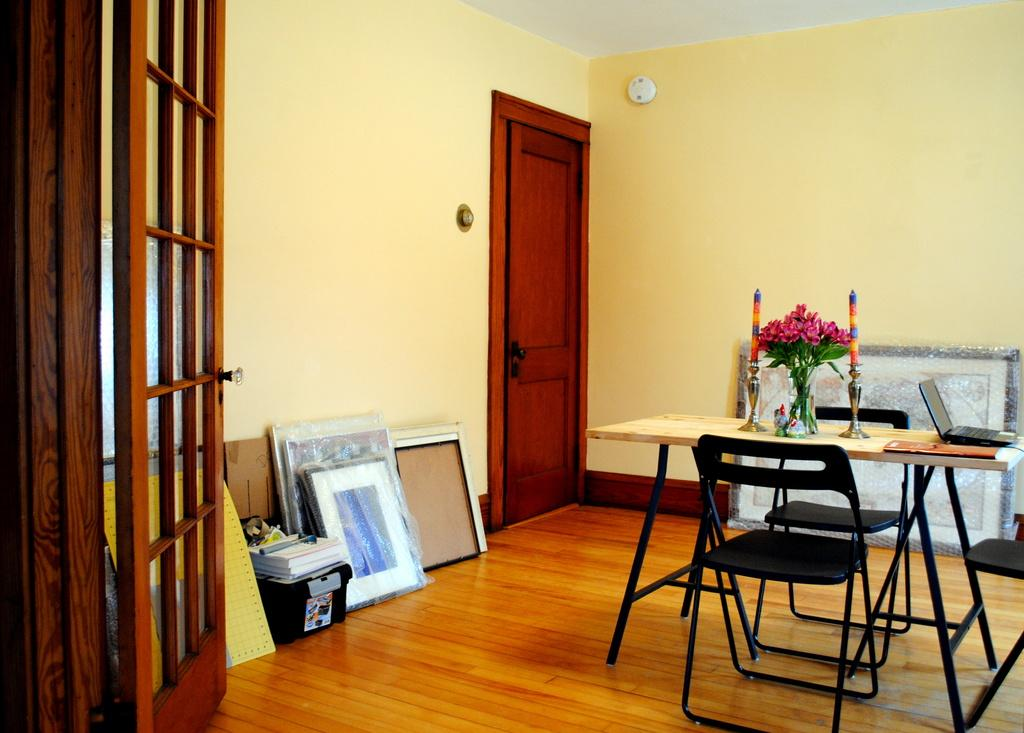Chair: (681, 433, 879, 732)
Laptop: (917, 378, 1016, 447)
